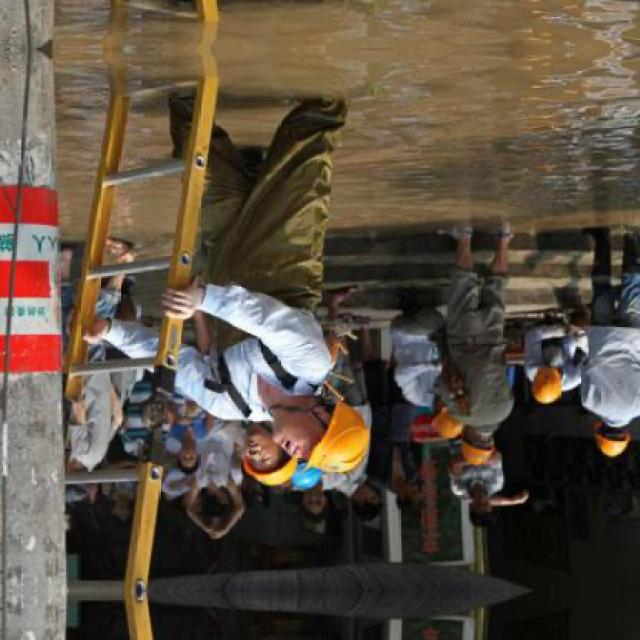con casco: (212, 374, 457, 491), (506, 357, 584, 431), (443, 393, 505, 477), (220, 433, 282, 491), (589, 413, 640, 464)
